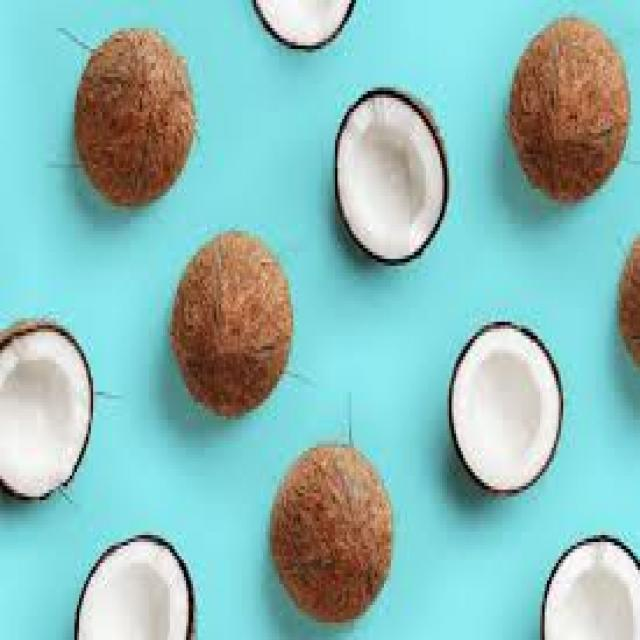coconut: (168, 225, 296, 414), (71, 21, 200, 207), (267, 439, 395, 625), (508, 12, 630, 205), (446, 311, 567, 497), (333, 83, 452, 263), (0, 304, 96, 508), (73, 531, 201, 640), (536, 518, 640, 640)
